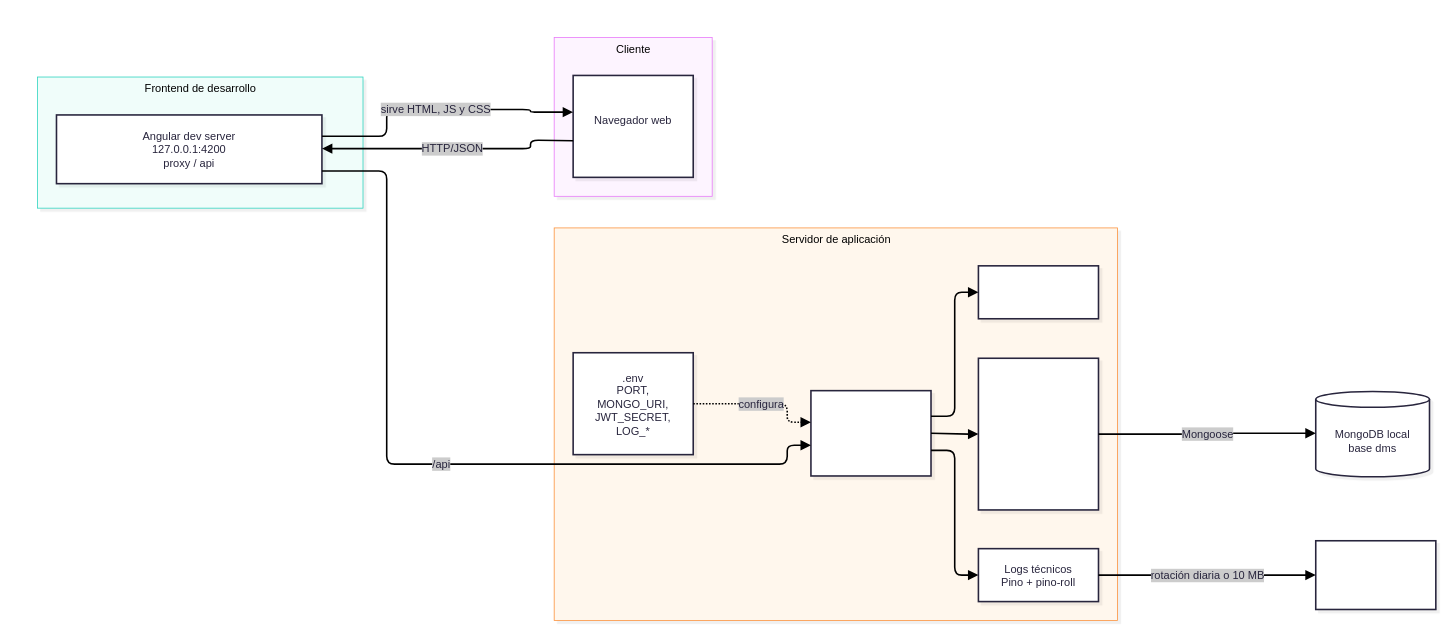
Image size: 1453x638. Some labels were removed from this diagram. The centre of each missing label's shape, as x and y in pixels:
"API REST Node.js + Express puerto 3000" belongs at point 872,434.
"Autenticación JWT" belongs at point 1039,293.
"Módulos de negocio auth, usuario, carpeta, archivo, actividad, reporte, búsqueda" belongs at point 1039,435.
"Sistema de archivos backend/logs/" belongs at point 1377,576.
